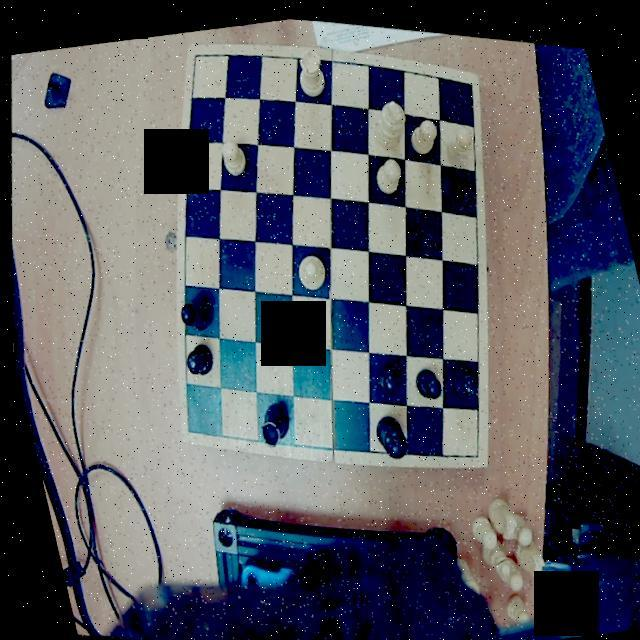chess-table-corners: (173, 409, 205, 444), (456, 434, 487, 466), (457, 64, 484, 98), (185, 38, 212, 68)
